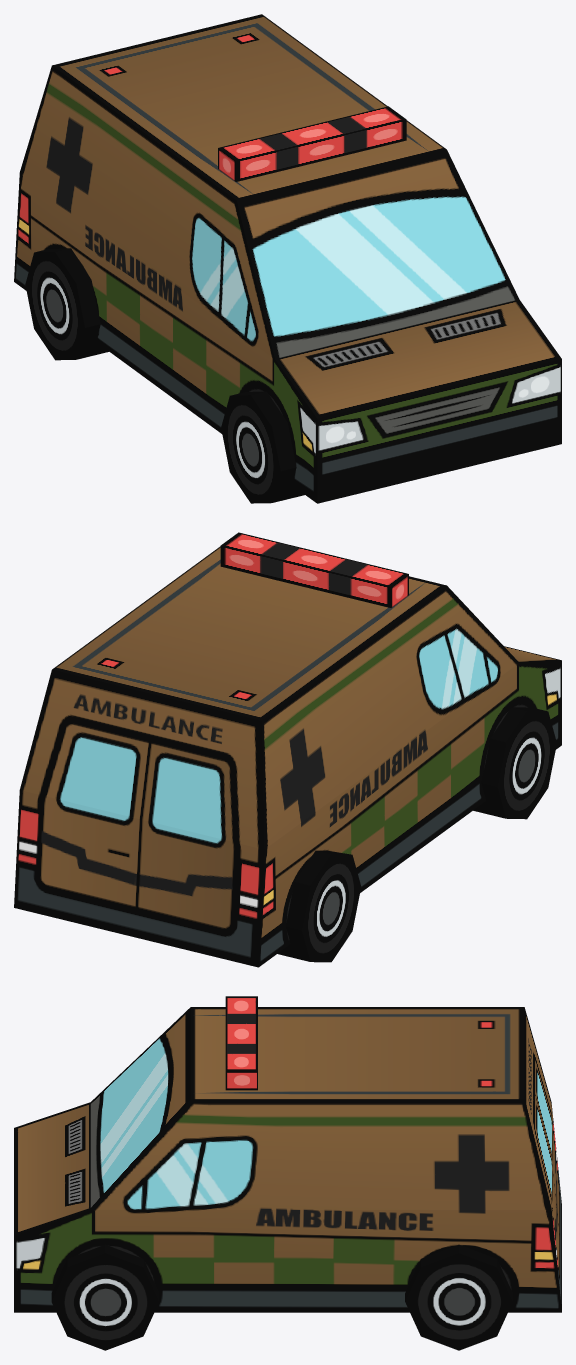
Rendered from car6_8.gltf.
3 views of the same model, one above another, from view 1: azimuth 30°, elevation 25°; view 2: azimuth 150°, elevation 25°; view 3: azimuth 270°, elevation 25° (orthographic). The views are drawn at different scales.
Visible parts, largest first — view 1: Cylinder.002; view 2: Cylinder.002; view 3: Cylinder.002.
Part boxes in pixels (x1,y1,x2,y2): Cylinder.002: [14, 14, 561, 503]; Cylinder.002: [14, 532, 561, 967]; Cylinder.002: [14, 996, 561, 1350].
Size of the model in its own units: 2.79 by 2.68 by 5.24.
Materials: 1 (1 with a texture image).
